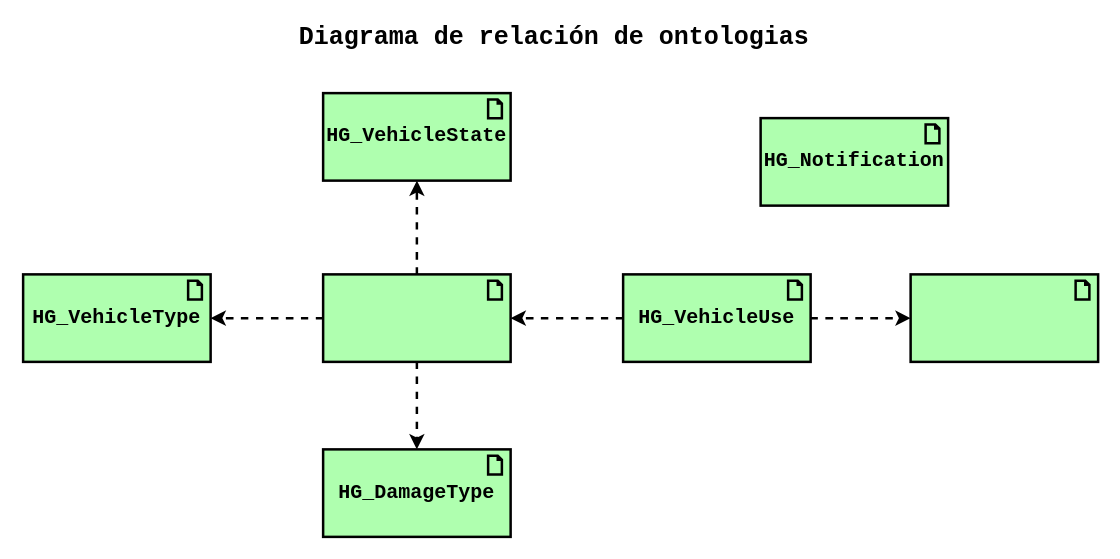
Image size: 1120x559. Some labels were removed from this diagram. The shapes that lost their labels are listed below. From the top down, each one's box as (x1, y1, x2, y2) in pixels, then its label:
(321, 272, 511, 362): HG_Vehicle
(909, 272, 1099, 362): HG_User
